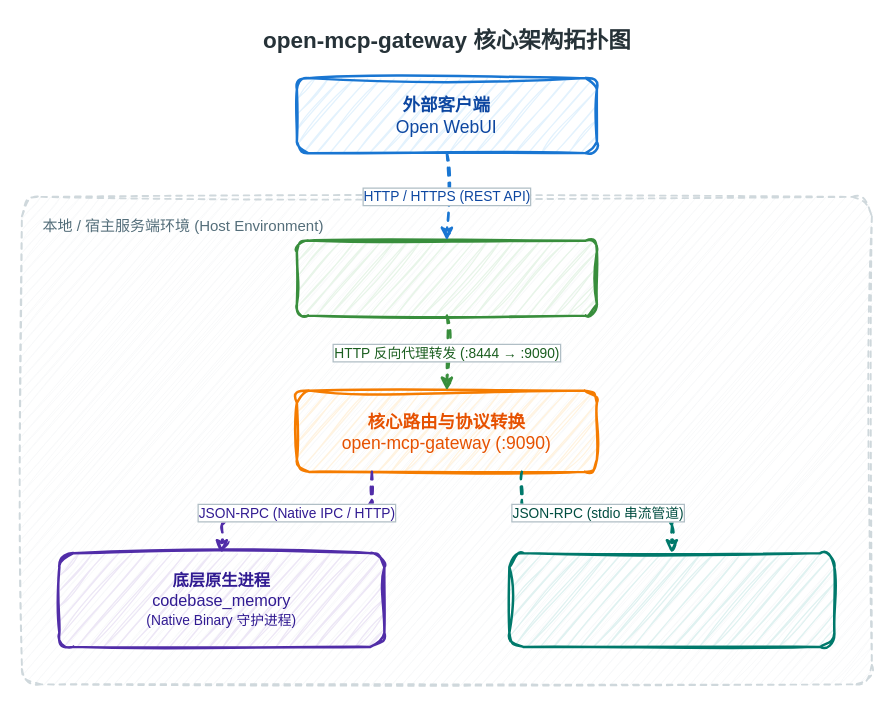
Image size: 895x706. Some labels were removed from this diagram. The centre of each missing label's shape, as x and y in pixels:
"串流子进程 drawio MCP Server (stdio 管道串流子进程)" goes at point (671, 599).
"反向代理网关 Caddy (:8444)" goes at point (446, 277).
